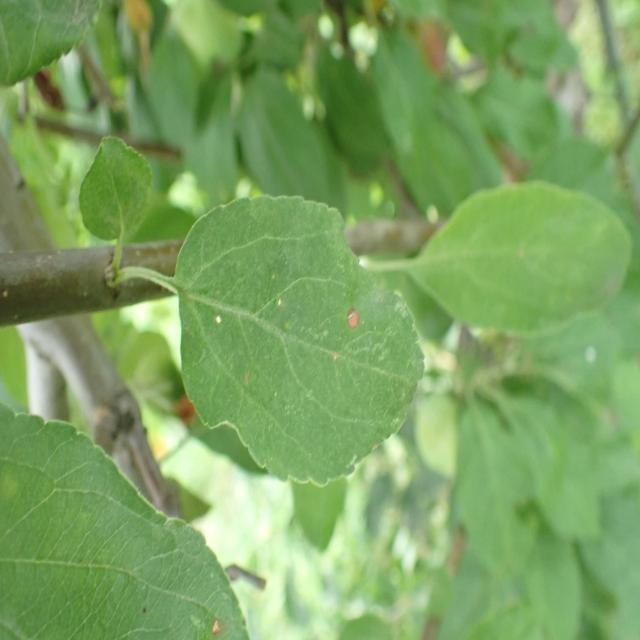Black Rot: (337, 290, 372, 352)
